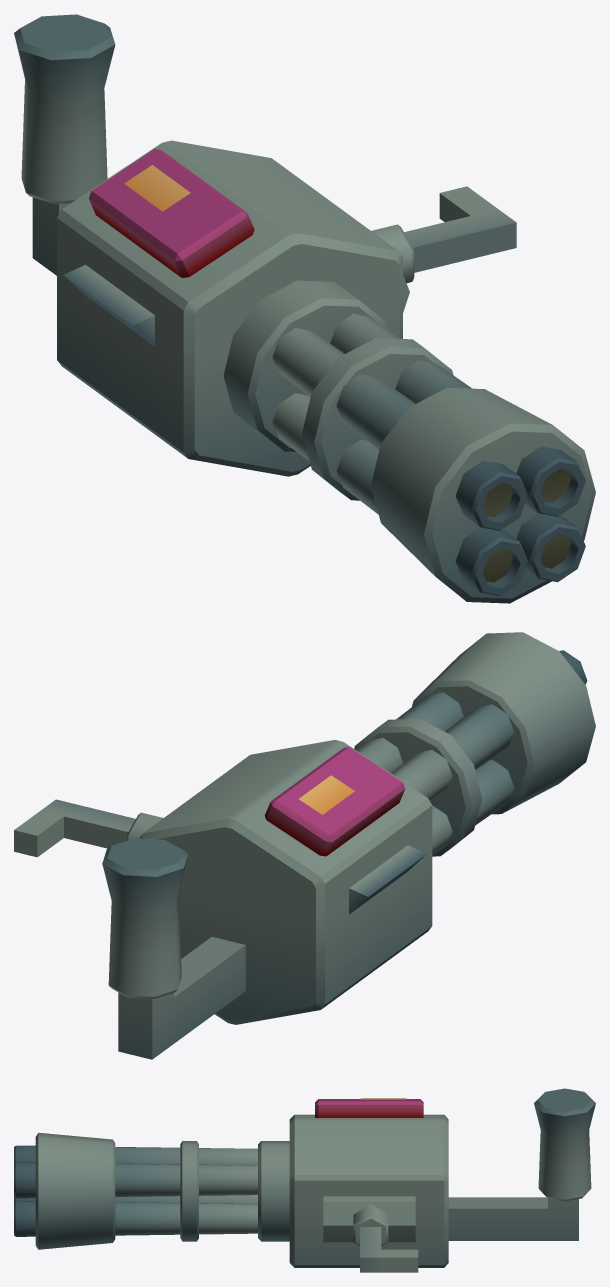
File: original-machinegun.glb
3 renders of one model, top to bottom at view 1: azimuth 30°, elevation 25°; view 2: azimuth 150°, elevation 25°; view 3: azimuth 270°, elevation 25°, orthographic. The views are drawn at different scales.
Parts seen in each view (by area): view 1: MachineGun; view 2: MachineGun; view 3: MachineGun.
Boxes of the visible parts, box(x1,y1,x2,y2) form: MachineGun: box(14, 14, 595, 603); MachineGun: box(14, 632, 595, 1059); MachineGun: box(14, 1088, 595, 1272).
Bounding box in the file's own units: 0.4936 × 0.3155 × 1.02.
Materials: 1 (1 with a texture image).
